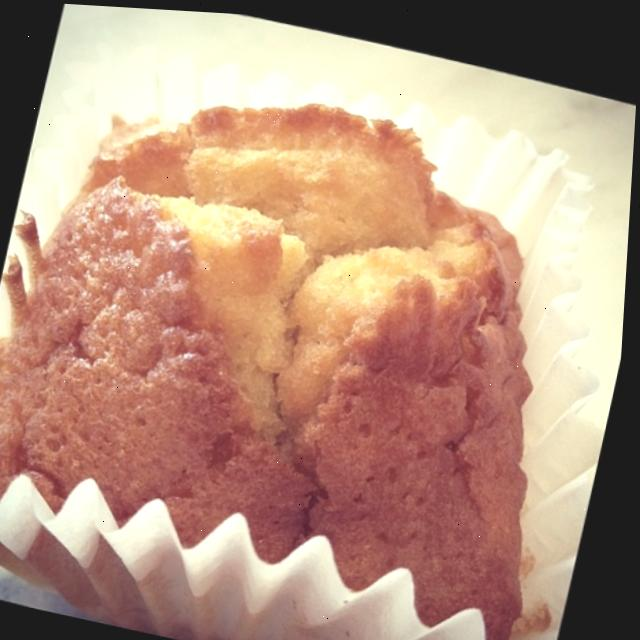炸货点心: (0, 8, 640, 640)
面包点心: (0, 8, 640, 640)
